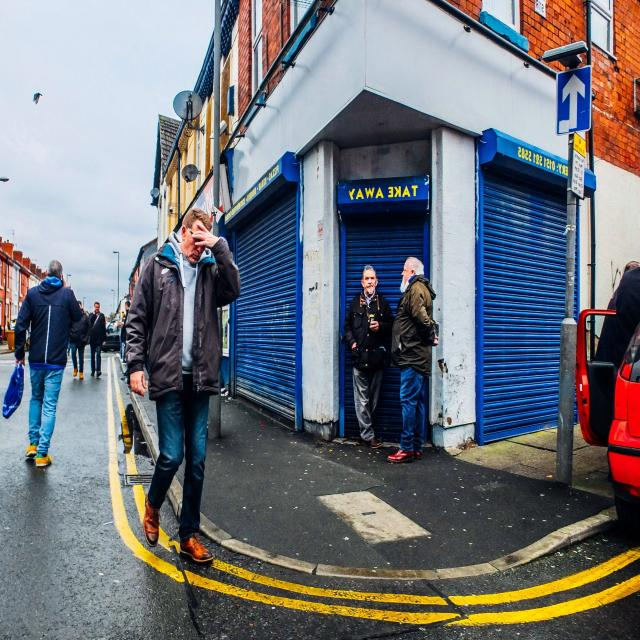adult: (124, 208, 240, 572), (12, 252, 74, 477), (380, 254, 440, 469), (349, 265, 389, 449), (89, 301, 106, 378)
